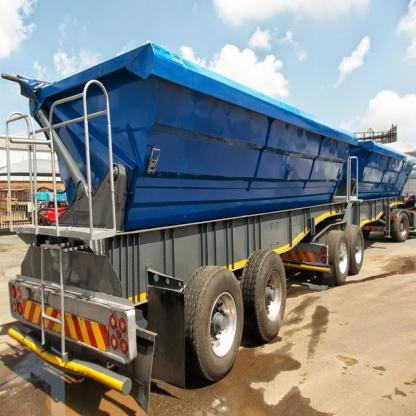dump_truck: (16, 32, 416, 393)
